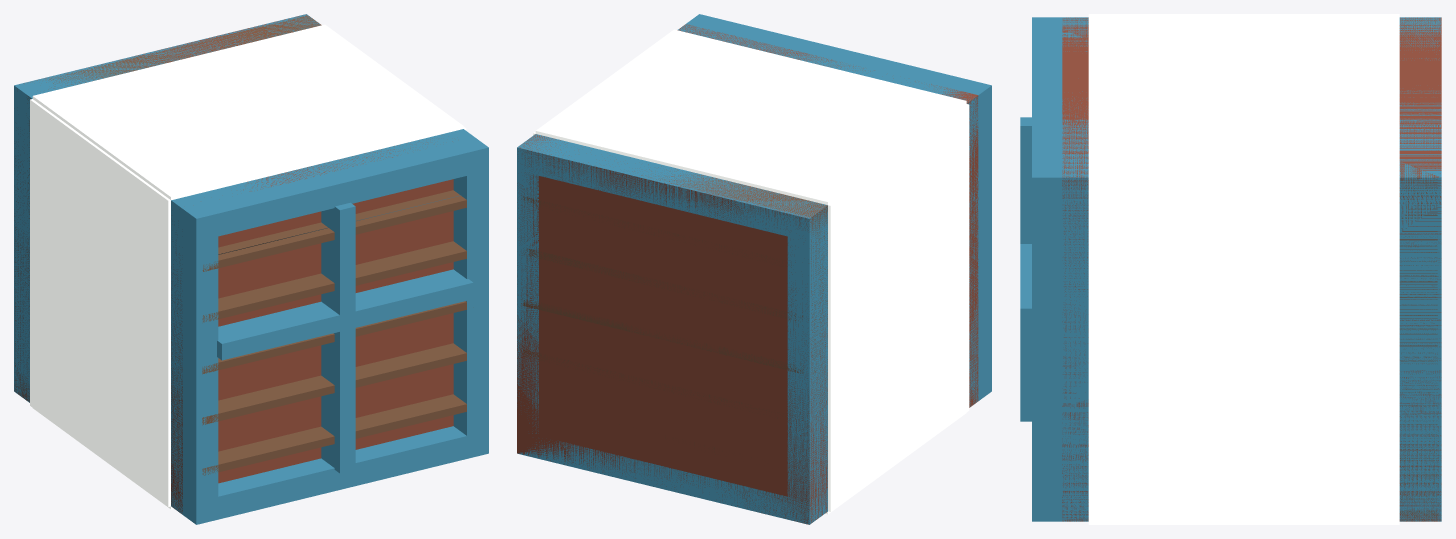
File: facade-kit-v2.glb
3 renders of one model, left to right at view 1: azimuth 30°, elevation 25°; view 2: azimuth 150°, elevation 25°; view 3: azimuth 270°, elevation 25°, orthographic. The views are drawn at different scales.
Visible parts, largest first — view 1: FacadeKit_TowerMullionGrid_LOD0, FacadeKit_WindowBay_LOD0, FacadeKit_BrickPanel_LOD0, FacadeKit_WoodPanel_LOD0; view 2: FacadeKit_TowerMullionGrid_LOD0, FacadeKit_BrickPanel_LOD0, FacadeKit_WindowBay_LOD0, FacadeKit_WoodPanel_LOD0; view 3: FacadeKit_TowerMullionGrid_LOD0, FacadeKit_WindowBay_LOD0, FacadeKit_BrickPanel_LOD0, FacadeKit_WoodPanel_LOD0.
Boxes of the visible parts, x1,y1,x2,y2 form: FacadeKit_TowerMullionGrid_LOD0: (30, 24, 466, 509); FacadeKit_WindowBay_LOD0: (14, 14, 488, 524); FacadeKit_BrickPanel_LOD0: (14, 14, 453, 513); FacadeKit_WoodPanel_LOD0: (17, 15, 466, 475); FacadeKit_TowerMullionGrid_LOD0: (533, 29, 969, 514); FacadeKit_BrickPanel_LOD0: (517, 24, 978, 524); FacadeKit_WindowBay_LOD0: (517, 14, 991, 524); FacadeKit_WoodPanel_LOD0: (523, 164, 827, 507); FacadeKit_TowerMullionGrid_LOD0: (1088, 14, 1399, 524); FacadeKit_WindowBay_LOD0: (1020, 17, 1441, 521); FacadeKit_BrickPanel_LOD0: (1062, 17, 1441, 521); FacadeKit_WoodPanel_LOD0: (1399, 17, 1437, 521).
Size of what is drawn, in the model's own units: 1.02 by 1.02 by 1.11.
